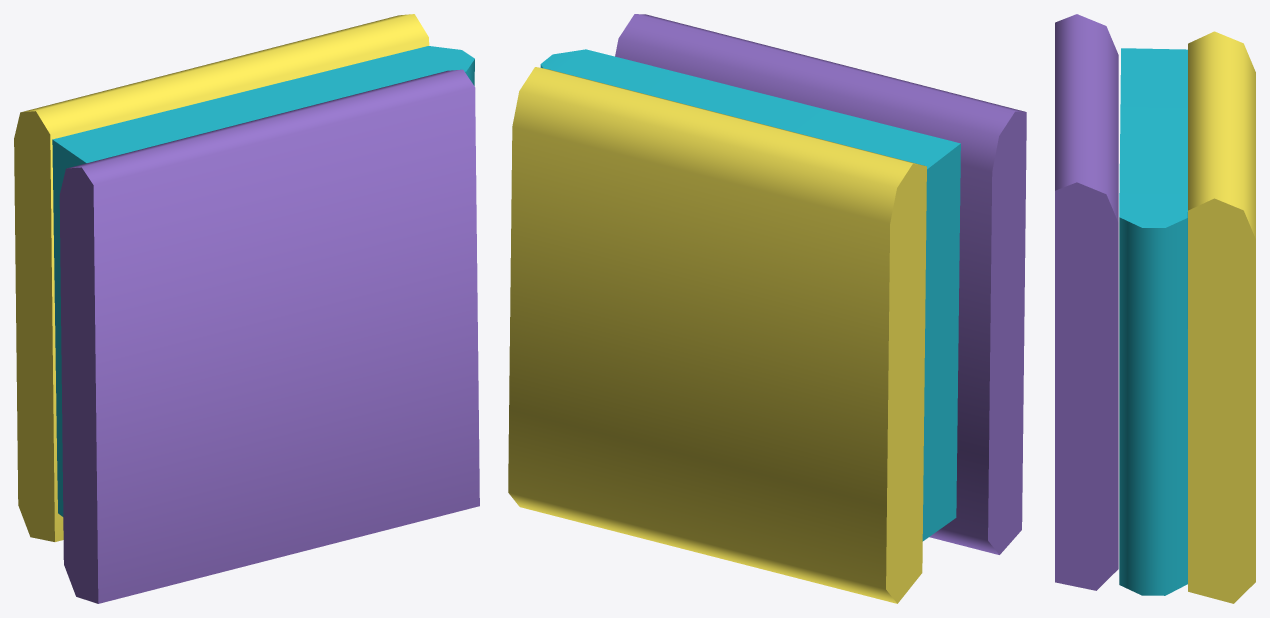
File: fabric-stack.glb
3 renders of one model, left to right at view 1: azimuth 30°, elevation 25°; view 2: azimuth 150°, elevation 25°; view 3: azimuth 270°, elevation 25°, orthographic. The views are drawn at different scales.
Visible parts, largest first — view 1: shop_011; view 2: shop_011; view 3: shop_011.
Boxes of the visible parts, x1,y1,x2,y2 form: shop_011: [14, 14, 479, 603]; shop_011: [508, 14, 1026, 603]; shop_011: [1055, 14, 1255, 603].
Size of the model in its own units: 0.4104 by 0.4069 by 0.1796.
Materials: 1 (1 with a texture image).
